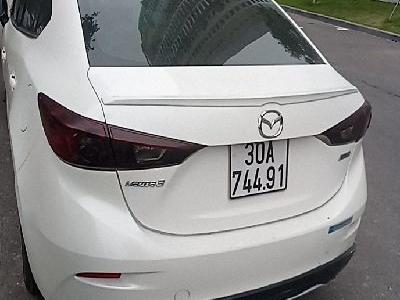car: (229, 138, 290, 198)
